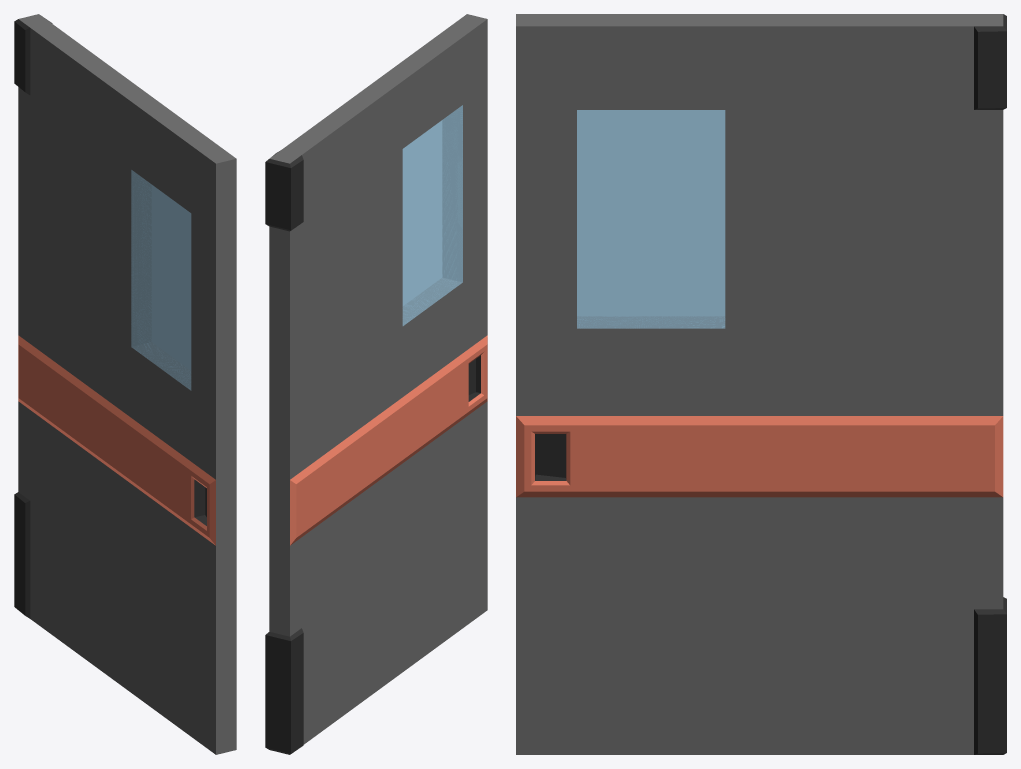
The model's file is ENT.FBX.
3 renders of one model, left to right at view 1: azimuth 30°, elevation 25°; view 2: azimuth 150°, elevation 25°; view 3: azimuth 270°, elevation 25°, orthographic. The views are drawn at different scales.
Parts seen in each view (by area): view 1: Door-009, Door-008; view 2: Door-009, Door-008; view 3: Door-009, Door-008.
Part boxes in pixels (<box>): Door-009: <box>14,14,236,754</box>; Door-008: <box>131,170,191,390</box>; Door-009: <box>265,14,487,754</box>; Door-008: <box>402,105,462,325</box>; Door-009: <box>516,14,1006,754</box>; Door-008: <box>577,110,725,328</box>.
Size of the model in its own units: 2.13 by 44 by 26.86.
